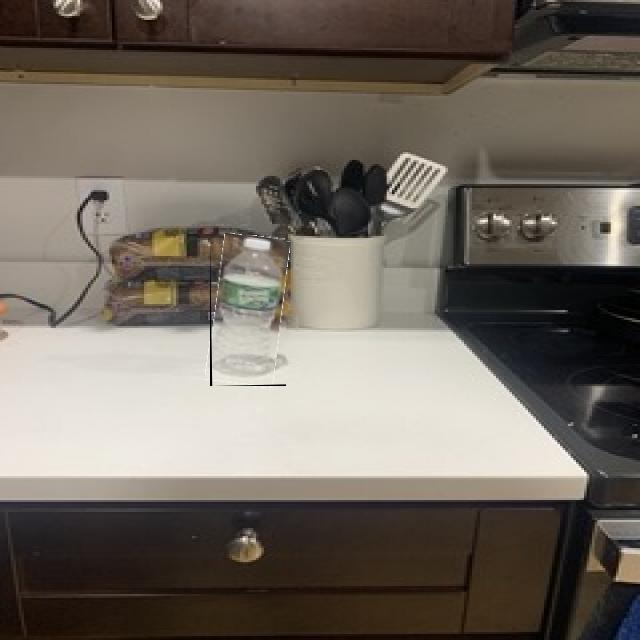water_bottle: (210, 235, 286, 386)
